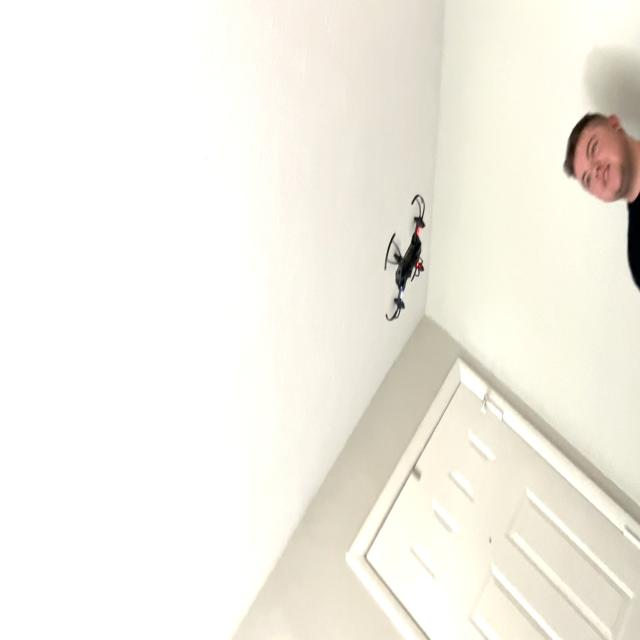drone: (377, 172, 436, 334)
